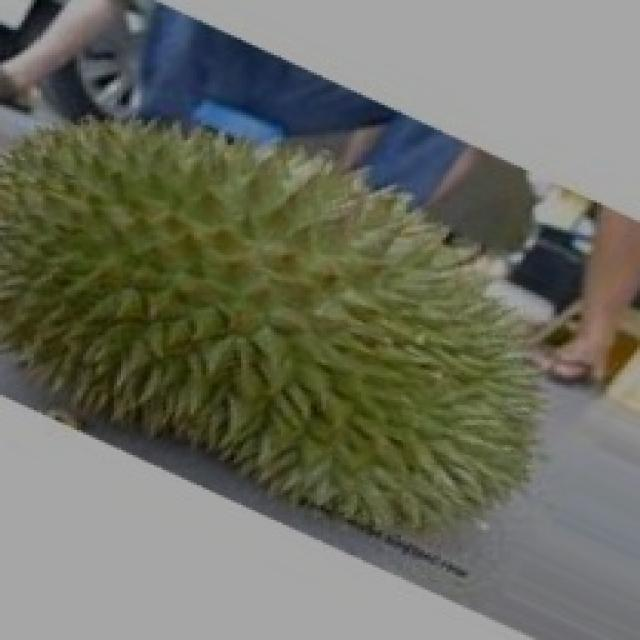fruit: (0, 42, 342, 510), (280, 230, 615, 628)
